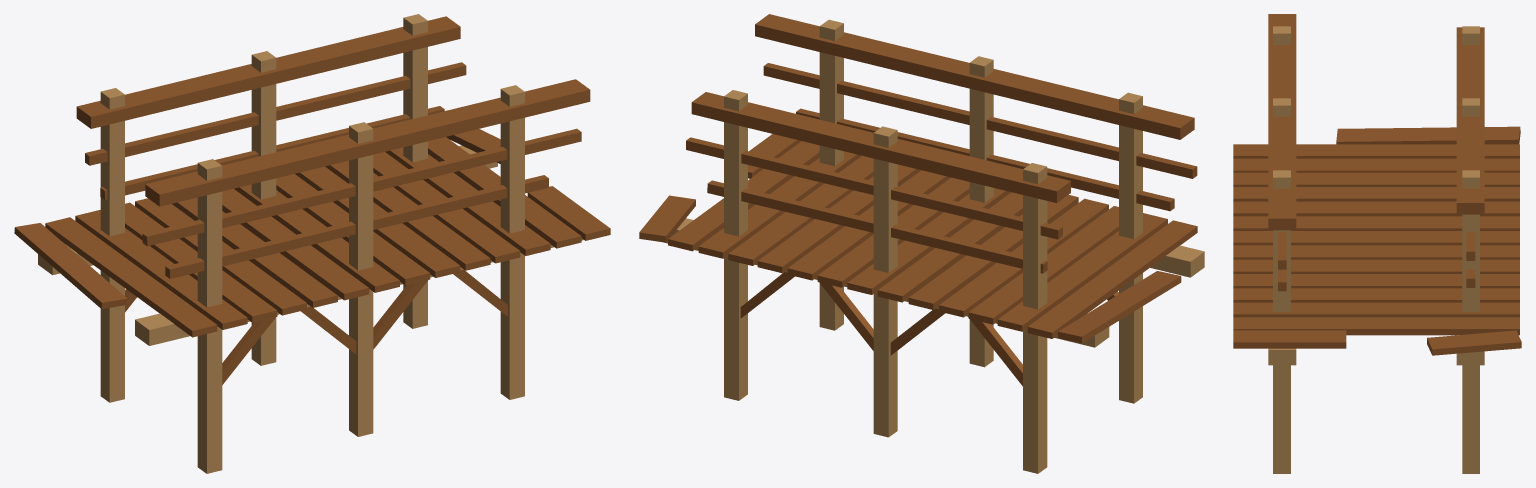
File: siltajapenkki.fbx
3 renders of one model, left to right at view 1: azimuth 30°, elevation 25°; view 2: azimuth 150°, elevation 25°; view 3: azimuth 270°, elevation 25°, orthographic. The views are drawn at different scales.
Visible parts, largest first — view 1: Cube; view 2: Cube; view 3: Cube.
Part boxes in pixels (x1=…): Cube: x1=14, y1=14, x2=610, y2=473; Cube: x1=639, y1=14, x2=1204, y2=473; Cube: x1=1233, y1=14, x2=1521, y2=473.
Bounding box in the file's own units: 427 × 265 × 233.
